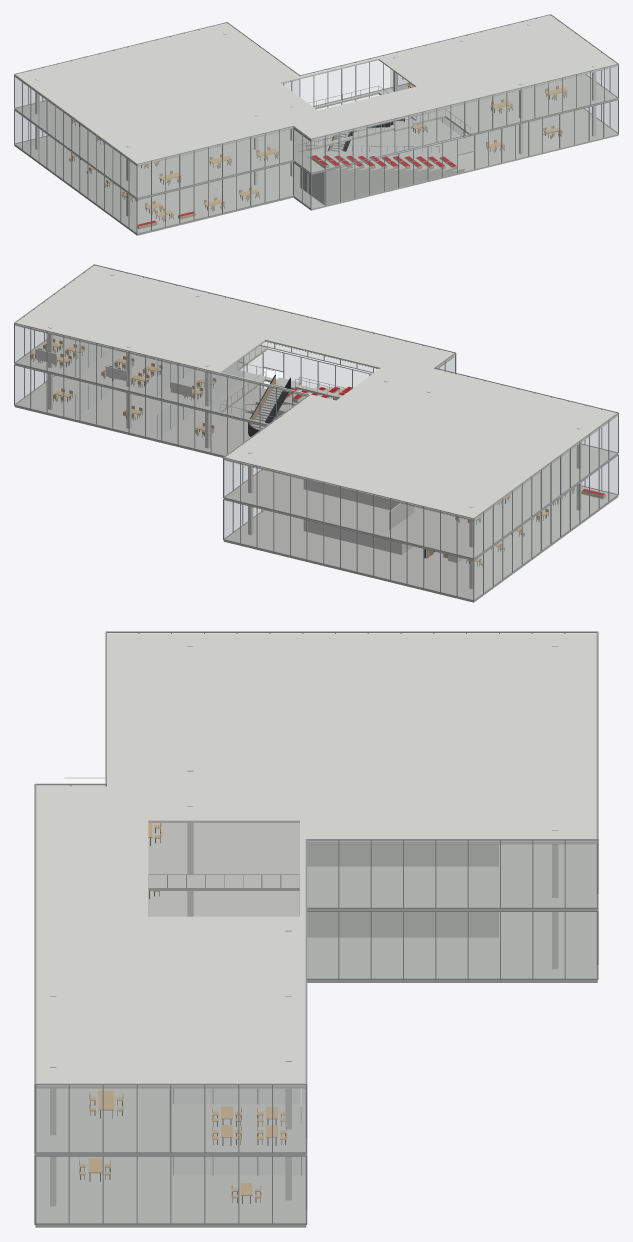
The model's file is interior-mobile.glb.
3 views of the same model, one above another, from view 1: azimuth 30°, elevation 25°; view 2: azimuth 150°, elevation 25°; view 3: azimuth 270°, elevation 25° (orthographic). The views are drawn at different scales.
Parts seen in each view (by area): view 1: roof · white-paint, shell-upper · glass, shell-lower · glass, floor-1 · floor-concrete, floor-2-slab · floor-concrete, shell-upper · stainless-metal, stairs · floor-concrete, shell-lower · stainless-metal, floor-1 · oak-wood, floor-2 · oak-wood, floor-2 · white-paint, stairs · red-upholstery (+4 smaller); view 2: roof · white-paint, shell-lower · glass, shell-upper · glass, floor-1 · floor-concrete, floor-2-slab · floor-concrete, shell-upper · stainless-metal, shell-lower · stainless-metal, floor-2 · white-paint, floor-1 · white-paint, floor-2 · glass, floor-2 · oak-wood, floor-1 · glass (+4 smaller); view 3: roof · white-paint, floor-2-slab · floor-concrete, floor-1 · floor-concrete, shell-lower · glass, shell-upper · glass, shell-upper · stainless-metal, floor-1 · white-paint, floor-2 · white-paint, shell-lower · stainless-metal, floor-1 · glass, floor-2 · oak-wood, floor-2 · glass.
Part boxes in pixels (left/top/right/bottom): roof · white-paint: left=14, top=15, right=618, bottom=165; shell-upper · glass: left=15, top=60, right=617, bottom=197; shell-lower · glass: left=15, top=94, right=617, bottom=232; floor-1 · floor-concrete: left=14, top=109, right=618, bottom=235; floor-2-slab · floor-concrete: left=14, top=74, right=618, bottom=199; shell-upper · stainless-metal: left=14, top=14, right=618, bottom=198; stairs · floor-concrete: left=291, top=121, right=464, bottom=205; shell-lower · stainless-metal: left=14, top=96, right=618, bottom=234; floor-1 · oak-wood: left=69, top=123, right=562, bottom=229; floor-2 · oak-wood: left=71, top=82, right=567, bottom=183; floor-2 · white-paint: left=35, top=23, right=596, bottom=180; stairs · red-upholstery: left=312, top=155, right=456, bottom=166; roof · white-paint: left=15, top=265, right=618, bottom=520; shell-lower · glass: left=15, top=350, right=617, bottom=599; shell-upper · glass: left=15, top=324, right=617, bottom=557; floor-1 · floor-concrete: left=14, top=375, right=618, bottom=602; floor-2-slab · floor-concrete: left=14, top=335, right=618, bottom=559; shell-upper · stainless-metal: left=14, top=264, right=618, bottom=559; shell-lower · stainless-metal: left=14, top=348, right=618, bottom=600; floor-2 · white-paint: left=35, top=273, right=581, bottom=547; floor-1 · white-paint: left=48, top=373, right=581, bottom=589; floor-2 · glass: left=76, top=341, right=243, bottom=407; floor-2 · oak-wood: left=30, top=338, right=510, bottom=522; floor-1 · glass: left=76, top=384, right=193, bottom=437; roof · white-paint: left=36, top=633, right=597, bottom=1088; floor-2-slab · floor-concrete: left=35, top=823, right=597, bottom=1155; floor-1 · floor-concrete: left=35, top=891, right=597, bottom=1227; shell-lower · glass: left=36, top=912, right=596, bottom=1222; shell-upper · glass: left=36, top=633, right=596, bottom=1151; shell-upper · stainless-metal: left=34, top=631, right=598, bottom=1153; floor-1 · white-paint: left=50, top=891, right=558, bottom=1206; floor-2 · white-paint: left=50, top=643, right=558, bottom=1135; shell-lower · stainless-metal: left=34, top=908, right=598, bottom=1224; floor-1 · glass: left=172, top=1157, right=304, bottom=1174; floor-2 · oak-wood: left=89, top=823, right=286, bottom=1139; floor-2 · glass: left=172, top=1089, right=304, bottom=1103.
Bounding box in the file's own units: 76.46 × 11.4 × 40.22.
